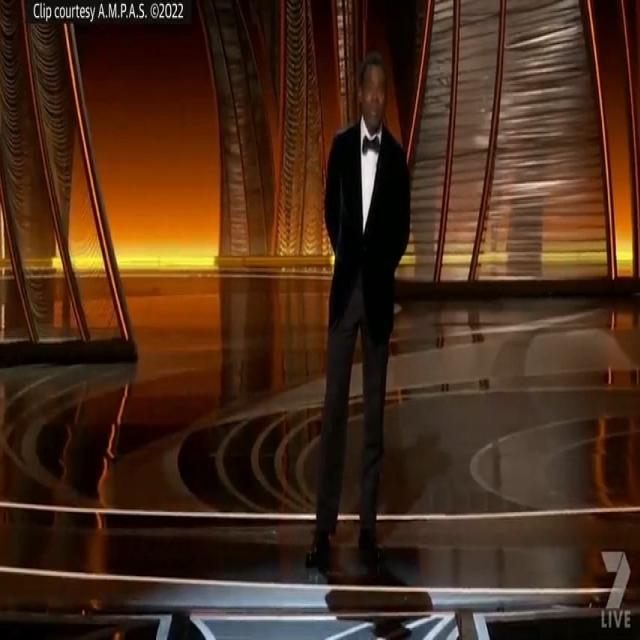non-fight: (304, 37, 412, 579)
